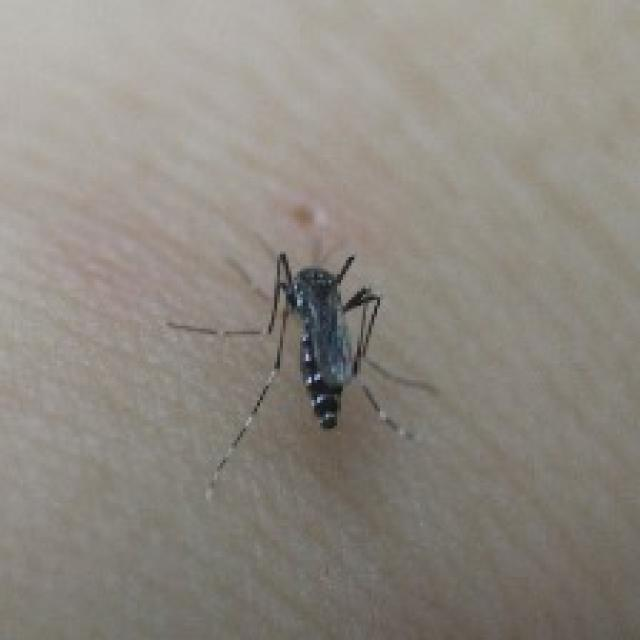aedes: (163, 243, 440, 500)
